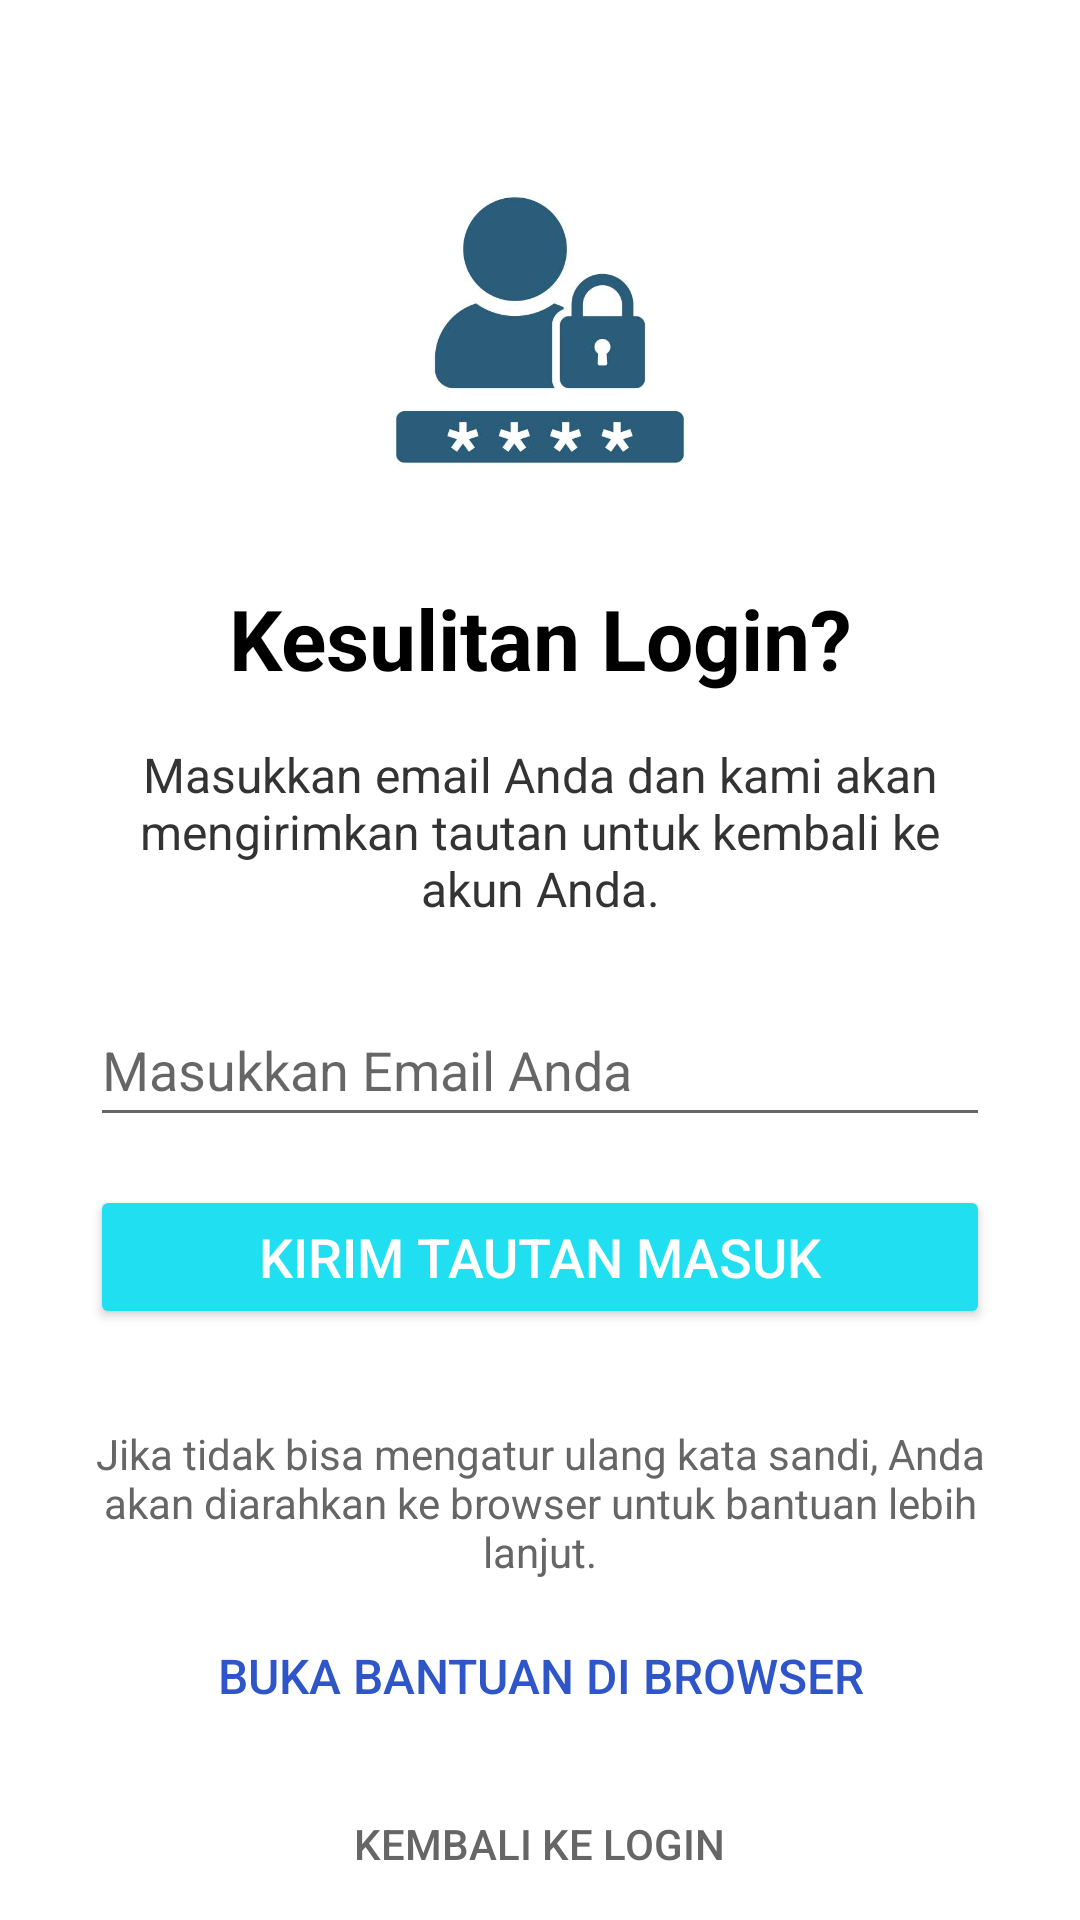

Icon click points for this 1080 × 1920 phone screenshot, format point (x, y):
lupa password: point (540, 330)
